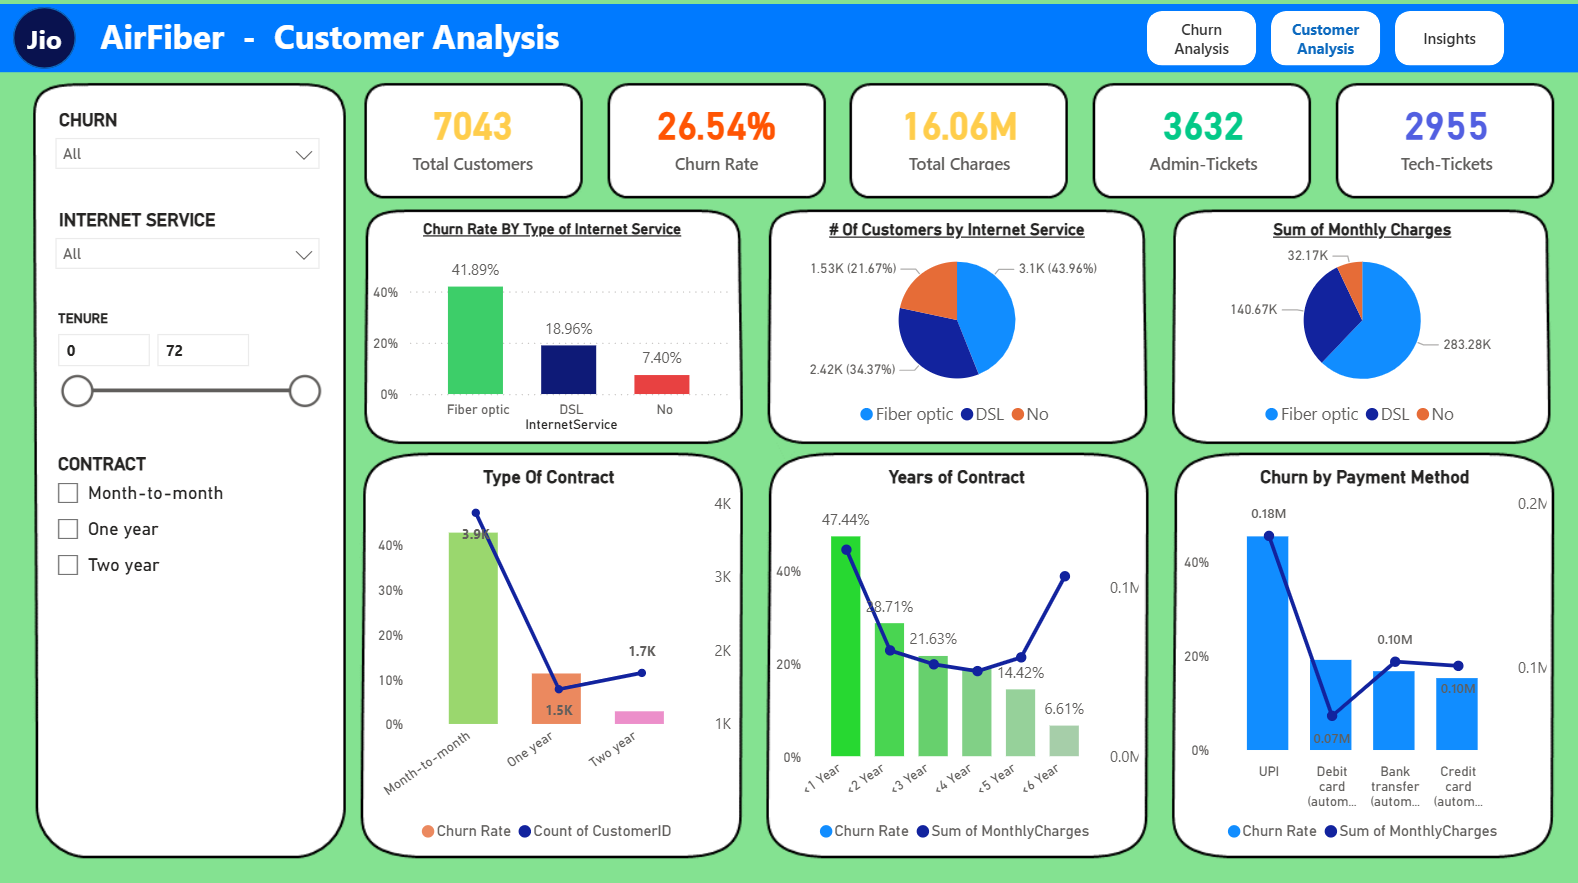

The dashboard page shown, as its layout file describes it:
{"tool":"powerbi","page":{"name":"Customer","canvas":[1280,720],"ordinal":1},"visuals":[{"type":"slicer","fields":{"Values":["Churn_Dataset.Churn"]},"box":[42,82,233,81],"z":0},{"type":"slicer","fields":{"Values":["Churn_Dataset.InternetService"]},"box":[42,163,233,81],"z":1000},{"type":"slicer","fields":{"Values":["Churn_Dataset.Tenure"]},"box":[41,244,233,97],"z":2000},{"type":"slicer","fields":{"Values":["Churn_Dataset.Contract"]},"box":[41.3,359.8,232.8,187.5],"z":3000},{"type":"card","fields":{"Values":["CountNonNull(Churn_Dataset.CustomerID)"]},"box":[307.4,77.5,162.3,79.6],"z":4000},{"type":"card","fields":{"Values":["ALL_DAX.Churn Rate"]},"box":[503.9,77.5,162,79],"z":5000},{"type":"card","fields":{"Values":["Sum(Churn_Dataset.TotalCharges)"]},"box":[700.1,77.5,162,79],"z":6000},{"type":"card","fields":{"Values":["Sum(Churn_Dataset.NumAdminTickets)"]},"box":[896.3,77.5,162,79],"z":7000},{"type":"card","fields":{"Values":["Sum(Churn_Dataset.NumTechTickets)"]},"box":[1092.5,77.5,162.3,78.6],"z":8000},{"type":"columnChart","title":"Churn Rate BY Type of Internet Service","fields":{"Category":["Churn_Dataset.InternetService"],"Y":["ALL_DAX.Churn Rate"]},"box":[302.4,171.8,300.3,185],"z":9000},{"type":"pieChart","title":"# Of Customers by Internet Service","fields":{"Y":["CountNonNull(Churn_Dataset.CustomerID)"],"Category":["Churn_Dataset.InternetService"]},"box":[629.1,171.8,300,185],"z":10000},{"type":"pieChart","title":"Sum of Monthly Charges","fields":{"Category":["Churn_Dataset.InternetService"],"Y":["Sum(Churn_Dataset.MonthlyCharges)"]},"box":[955.5,171.4,300.3,185.4],"z":11000},{"type":"lineStackedColumnComboChart","title":"Type Of Contract","fields":{"Y":["ALL_DAX.Churn Rate"],"Category":["Churn_Dataset.Contract"],"Y2":["CountNonNull(Churn_Dataset.CustomerID)"]},"box":[298.3,370,303,323],"z":12000},{"type":"lineStackedColumnComboChart","title":"Years of Contract","fields":{"Y":["ALL_DAX.Churn Rate"],"Y2":["Sum(Churn_Dataset.MonthlyCharges)"],"Category":["Churn_Dataset.Tenure(in Years)"]},"box":[627.4,370,303,323],"z":13000},{"type":"lineStackedColumnComboChart","title":"Churn by Payment Method","fields":{"Y":["ALL_DAX.Churn Rate"],"Category":["Churn_Dataset.PaymentMethod"],"Y2":["Sum(Churn_Dataset.MonthlyCharges)"]},"box":[956.5,370,303,323],"z":14000},{"type":"shape","box":[0,6.9,1280,55.1],"z":15000},{"type":"shape","box":[1216.9,7,63.1,55.1],"z":16000},{"type":"shape","box":[17.8,9.7,50.7,49.8],"z":17000},{"type":"textbox","box":[82.7,9.8,520,49.8],"z":18000},{"type":"actionButton","box":[931.8,12.6,88,44],"z":20000},{"type":"actionButton","box":[1031.8,13.1,88,44],"z":21000},{"type":"actionButton","box":[1131.8,13.1,88,44],"z":22000}]}

Visuals, with their boxes in screenshot pixels (x1, y1, x2, y2), scaled from the page's 1280x720 canvas onto the 1578x883 screenshot:
slicer - Churn_Dataset.Churn: [52, 101, 339, 200]
slicer - Churn_Dataset.InternetService: [52, 200, 339, 299]
slicer - Churn_Dataset.Tenure: [51, 299, 338, 418]
slicer - Churn_Dataset.Contract: [51, 441, 338, 671]
card - CountNonNull(Churn_Dataset.CustomerID): [379, 95, 579, 193]
card - ALL_DAX.Churn Rate: [621, 95, 821, 192]
card - Sum(Churn_Dataset.TotalCharges): [863, 95, 1063, 192]
card - Sum(Churn_Dataset.NumAdminTickets): [1105, 95, 1305, 192]
card - Sum(Churn_Dataset.NumTechTickets): [1347, 95, 1547, 191]
"Churn Rate BY Type of Internet Service" columnChart: [373, 211, 743, 438]
"# Of Customers by Internet Service" pieChart: [776, 211, 1145, 438]
"Sum of Monthly Charges" pieChart: [1178, 210, 1548, 438]
"Type Of Contract" lineStackedColumnComboChart: [368, 454, 741, 850]
"Years of Contract" lineStackedColumnComboChart: [773, 454, 1147, 850]
"Churn by Payment Method" lineStackedColumnComboChart: [1179, 454, 1553, 850]
shape: [0, 8, 1577, 76]
shape: [1500, 9, 1577, 76]
shape: [22, 12, 84, 73]
textbox: [102, 12, 743, 73]
actionButton: [1149, 15, 1257, 69]
actionButton: [1272, 16, 1381, 70]
actionButton: [1395, 16, 1504, 70]
